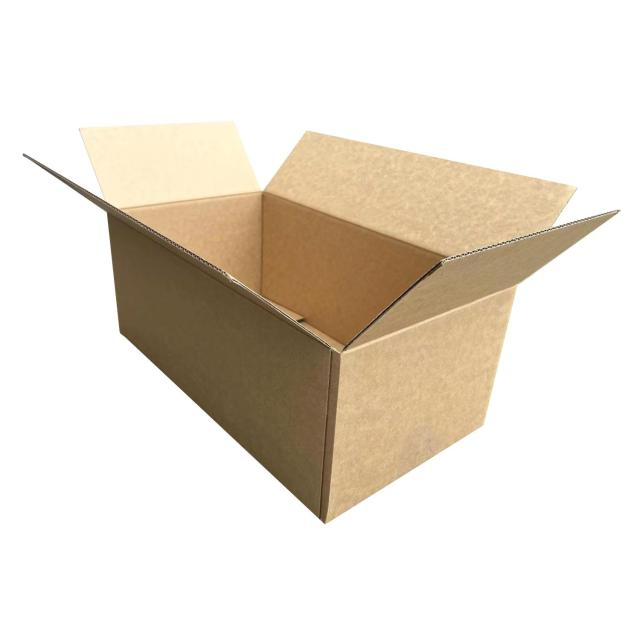Garbage: (13, 115, 625, 539)
